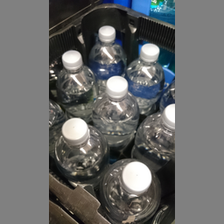water: (100, 157, 163, 224), (56, 114, 108, 186), (92, 75, 137, 152), (124, 42, 162, 113), (131, 101, 174, 162), (56, 50, 94, 116), (90, 24, 125, 77)
